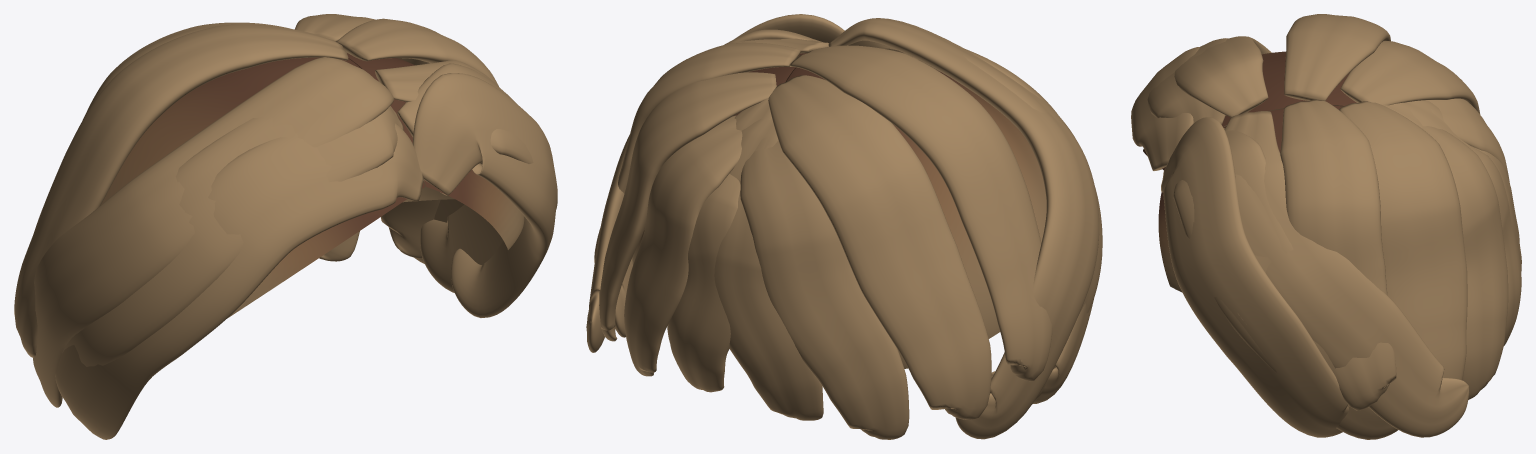
File: Masculine-flow-ears260-hair-ombre.glb
3 renders of one model, left to right at view 1: azimuth 30°, elevation 25°; view 2: azimuth 150°, elevation 25°; view 3: azimuth 270°, elevation 25°, orthographic. The views are drawn at different scales.
Parts seen in each view (by area): view 1: 226 hair / Hair260 / layered flow; view 2: 226 hair / Hair260 / layered flow; view 3: 226 hair / Hair260 / layered flow.
Boxes of the visible parts, <box> form: 226 hair / Hair260 / layered flow: <box>14,14,557,439</box>; 226 hair / Hair260 / layered flow: <box>586,14,1102,439</box>; 226 hair / Hair260 / layered flow: <box>1131,14,1521,439</box>.
Size of the model in its own units: 1.12 by 0.7722 by 0.87.
